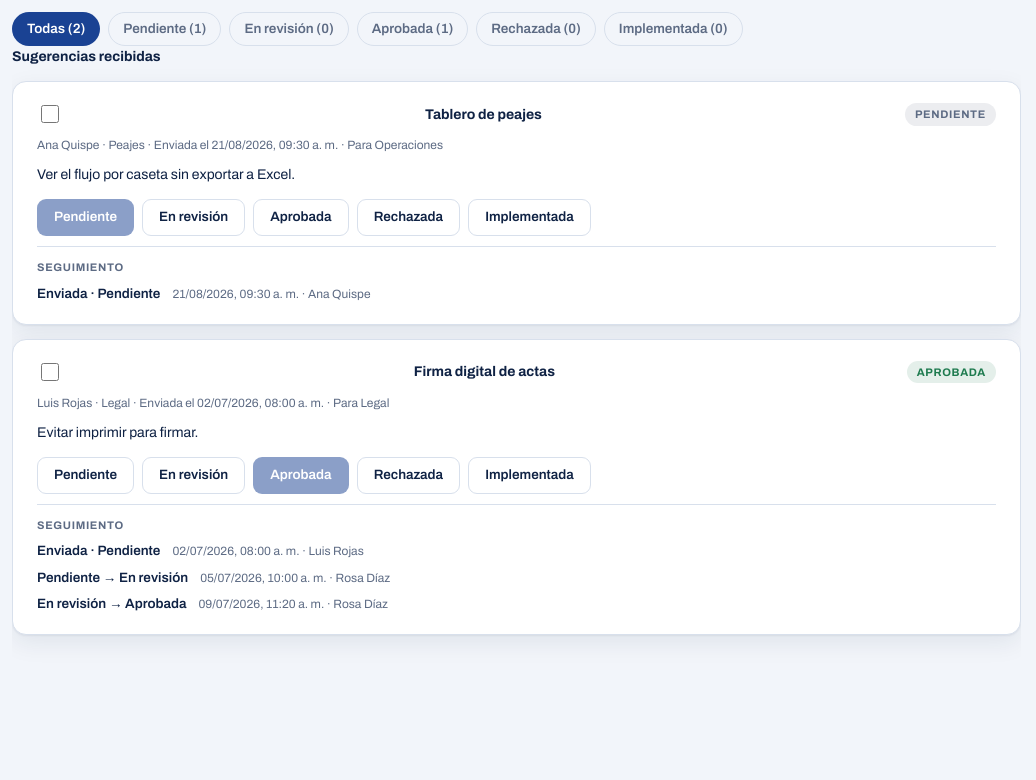
Scenario: los botones del embudo › no pierde las demás sugerencias al revisar una
Click the button "En revisión" below "· Peajes" at (194, 218), box [142,199,245,236]
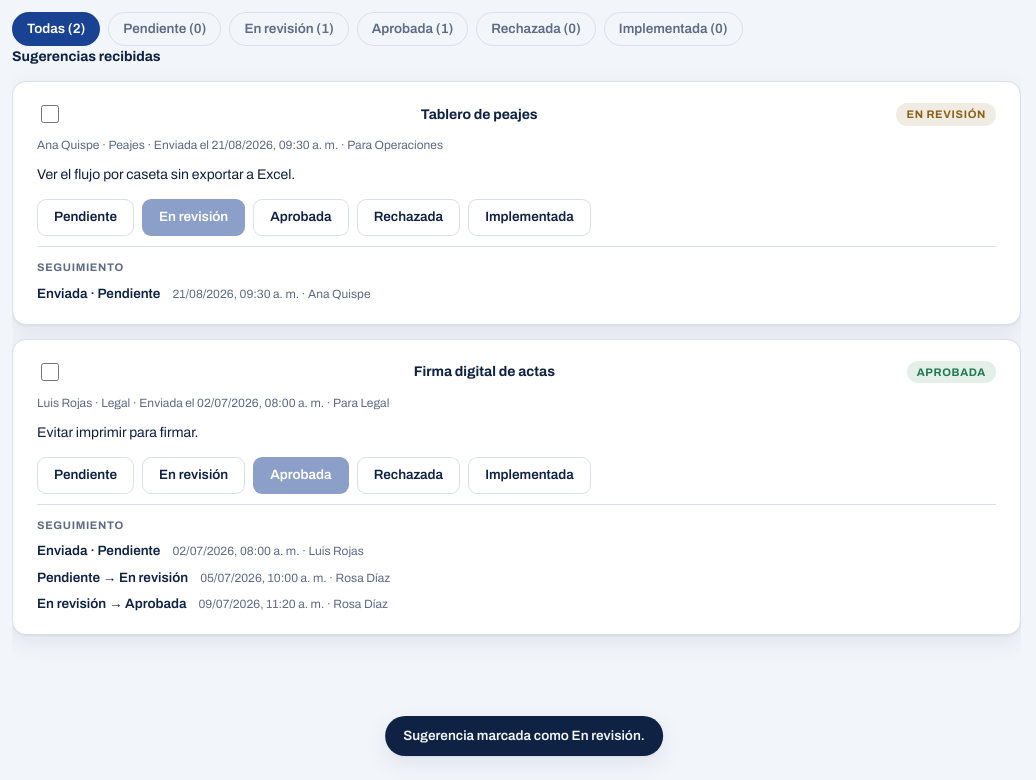
Expected: the heading "Firma digital de actas" is shown, [414,361,555,382]
Expected: the text "En revisión" is shown, [896,103,996,126]
